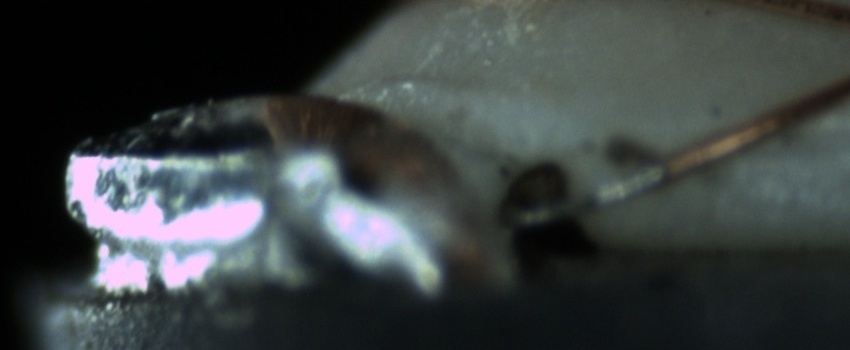DL: (765, 103, 849, 179)
TS: (506, 161, 668, 228)
